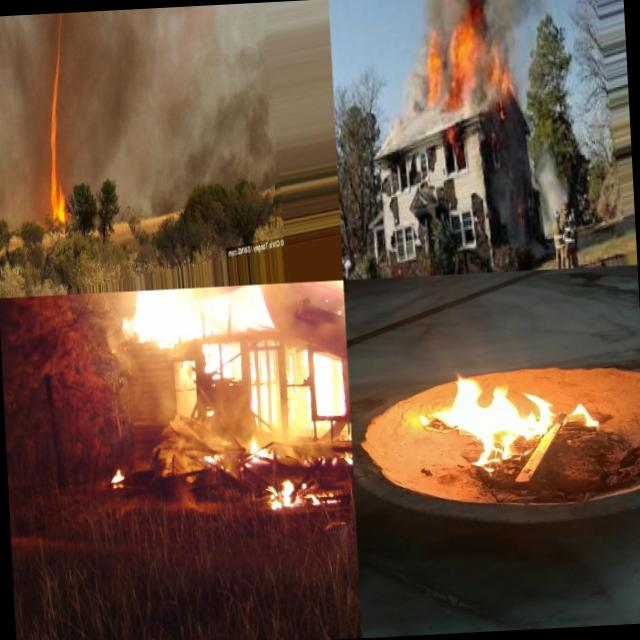fire: (129, 280, 353, 484), (404, 355, 610, 472), (447, 22, 481, 98), (420, 31, 446, 105), (44, 148, 66, 222), (49, 60, 63, 108), (53, 14, 64, 62), (47, 44, 60, 84)
smoke: (70, 2, 276, 180), (0, 14, 46, 219), (409, 0, 553, 30), (118, 173, 184, 214), (60, 109, 78, 184), (37, 14, 59, 61)
